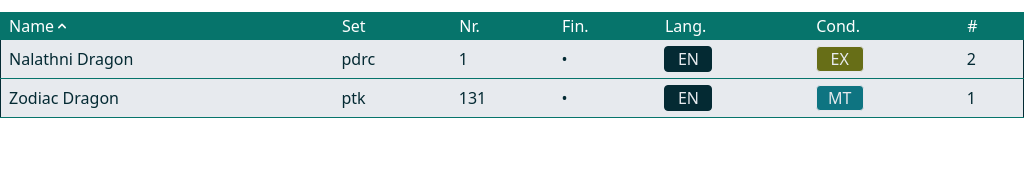
Test: <Table /> › sorts columns
Step 1. Click the button with id "sort-Name" → (44,26), box [9,14,78,38]
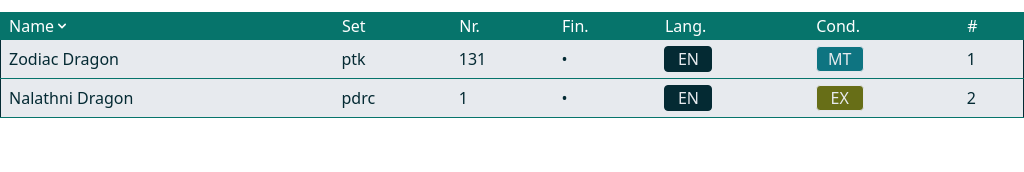
expect the button "Zodiac Dragon" is shown: met, box [9,47,119,71]
expect the button "Nalathni Dragon" is shown: met, box [9,86,133,110]
Step 2. Click the button with id "sort-Name" → (44,26), box [9,14,78,38]
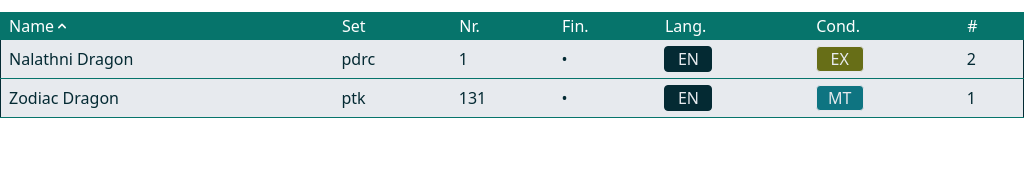
expect the button "Nalathni Dragon" is shown: met, box [9,47,133,71]
expect the button "Zodiac Dragon" is shown: met, box [9,86,119,110]
